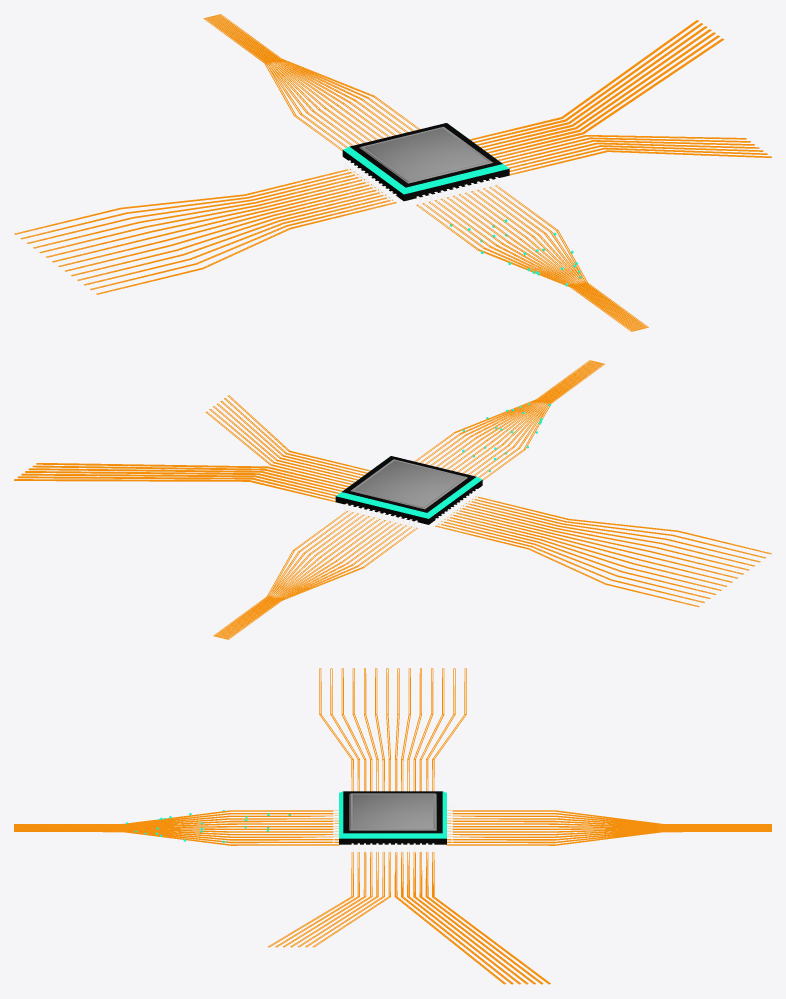
File: Microchip.glb
3 views of the same model, one above another, from view 1: azimuth 30°, elevation 25°; view 2: azimuth 150°, elevation 25°; view 3: azimuth 270°, elevation 25° (orthographic). The views are drawn at different scales.
Visible parts, largest first — view 1: Circuits, BaseTop, BaseBottom, ChipWire; view 2: Circuits, BaseTop, BaseBottom, ChipWire; view 3: Circuits, BaseTop, BaseBottom, ChipWire.
Part boxes in pixels (box(x1,y1,x2,y2)): Circuits: box(14, 14, 771, 331); BaseTop: box(359, 126, 492, 183); BaseBottom: box(342, 123, 509, 201); ChipWire: box(344, 160, 500, 205); Circuits: box(14, 360, 771, 639); BaseTop: box(350, 459, 467, 509); BaseBottom: box(335, 456, 482, 524); ChipWire: box(344, 489, 480, 528); Circuits: box(14, 668, 771, 984); BaseTop: box(349, 793, 436, 830); BaseBottom: box(339, 791, 446, 844); ChipWire: box(333, 803, 452, 851).
Size of the model in its own units: 6.92 by 0.2004 by 7.01.
